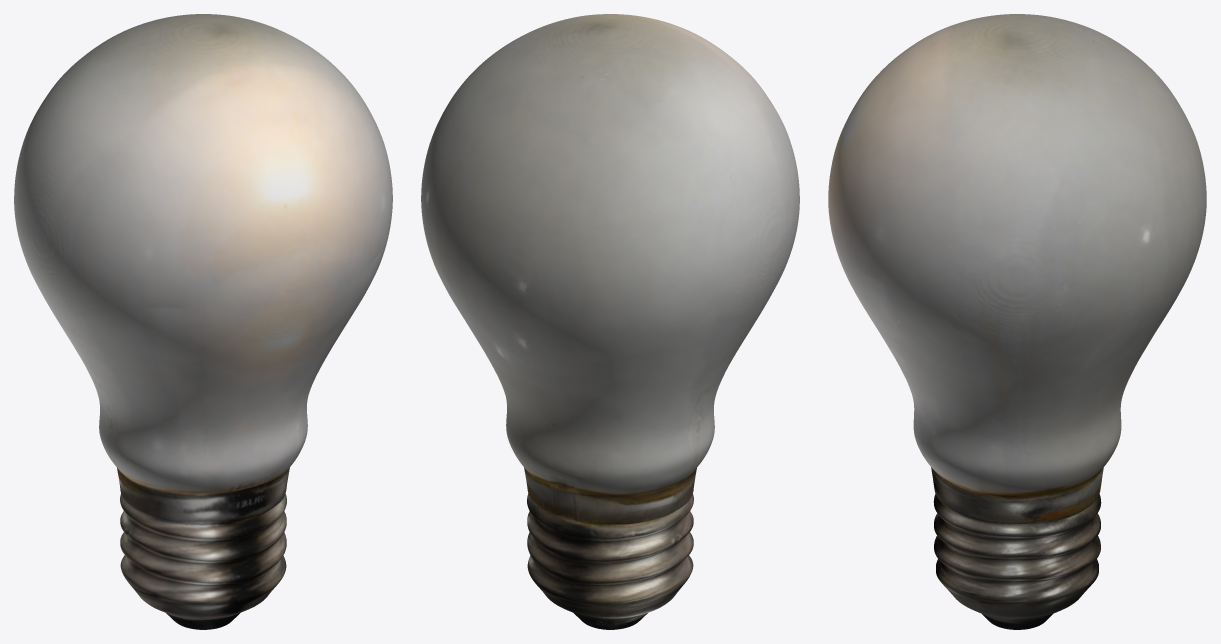
The model's file is about.glb.
3 views of the same model, side by side, from view 1: azimuth 30°, elevation 25°; view 2: azimuth 150°, elevation 25°; view 3: azimuth 270°, elevation 25° (orthographic).
Size of the model in its own units: 1.17 by 2 by 1.16.
1 material, 1 textured.
